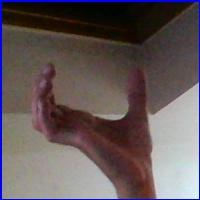space: (28, 54, 167, 163)
